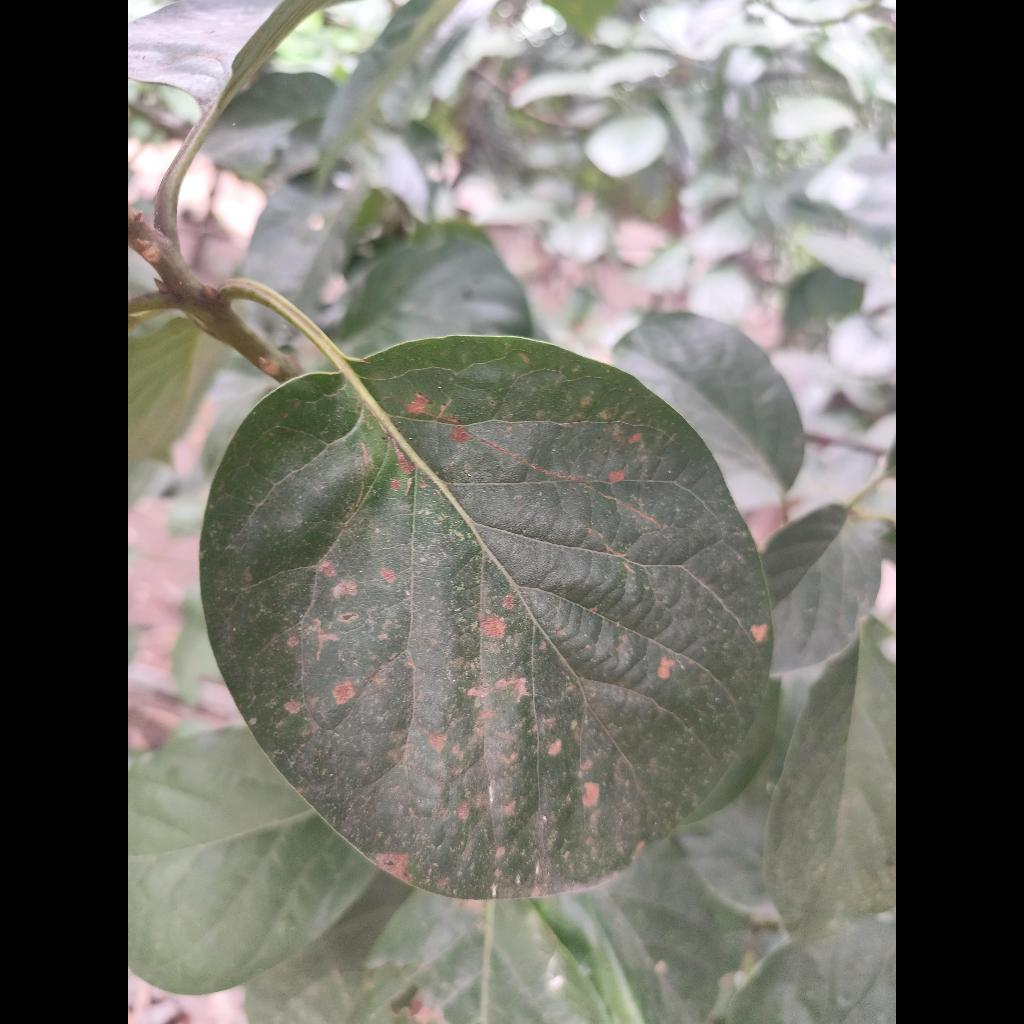antracnosis_hoja: (201, 336, 772, 899)
